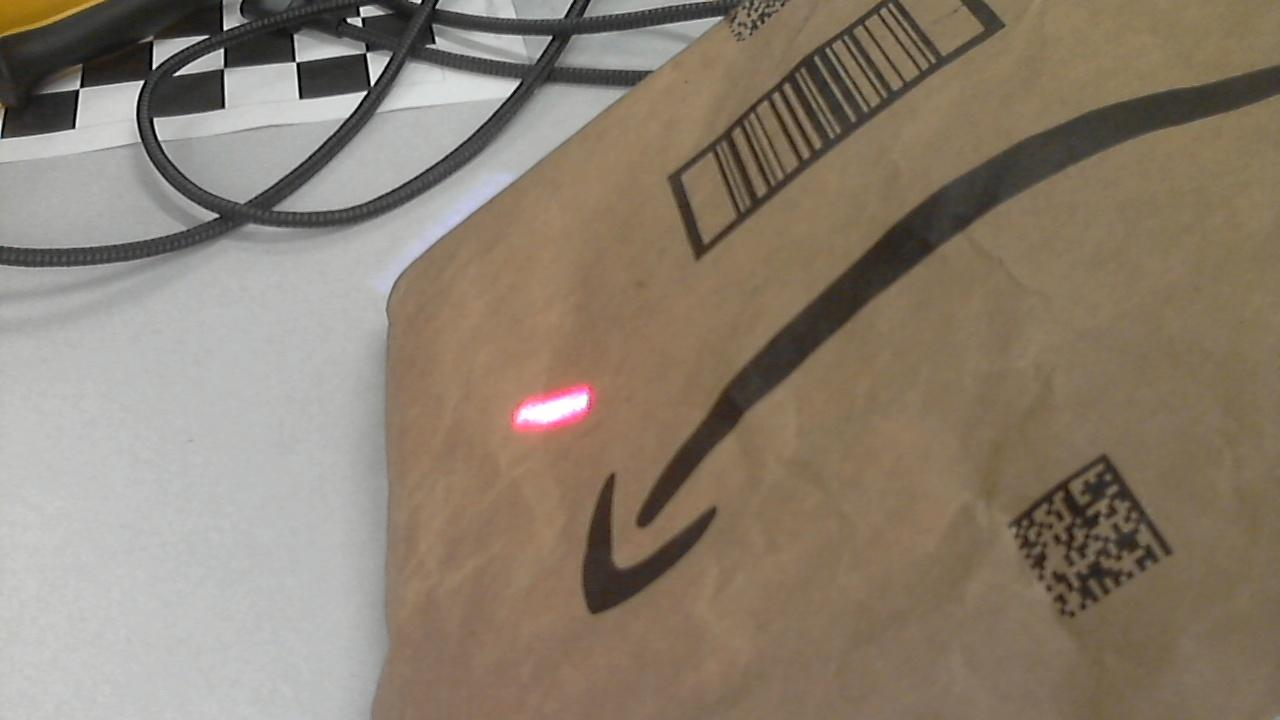Object Amazon recyclable paper mailer - Material paper - Color brown - Pdfname Z: (494, 370, 602, 436)
